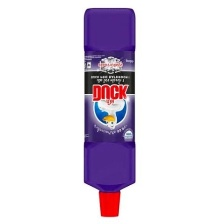cleaning_solution: (80, 4, 138, 219)
